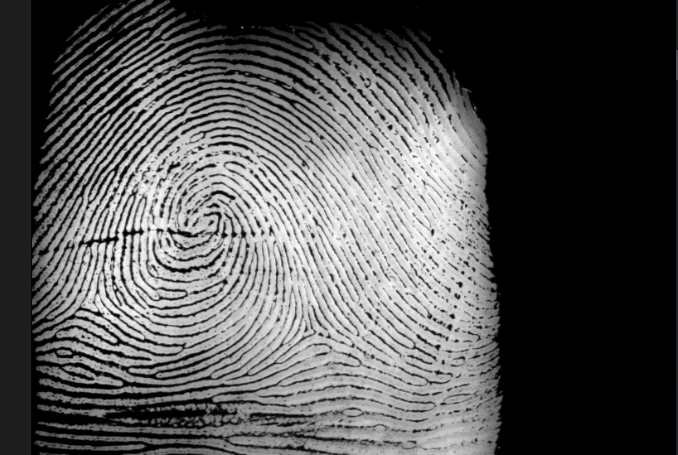deltas: (57, 267, 127, 333), (273, 296, 349, 356)
nucleo: (156, 176, 241, 252)
